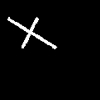single_crochet: (8, 17, 56, 48)
